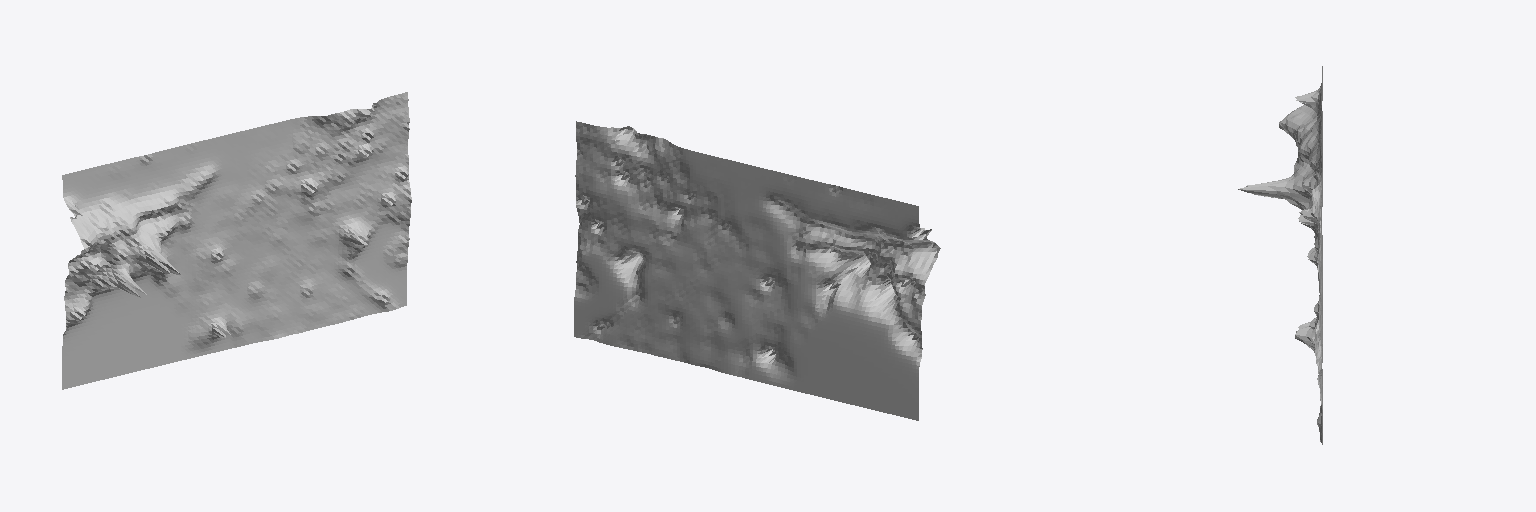
Rendered from golden_triangle_raw_z.obj.
The picture shows the model from 3 angles: view 1: azimuth 30°, elevation 25°; view 2: azimuth 150°, elevation 25°; view 3: azimuth 270°, elevation 25°; orthographic projection.
Size of the model in its own units: 24.75 by 14.75 by 5.33.